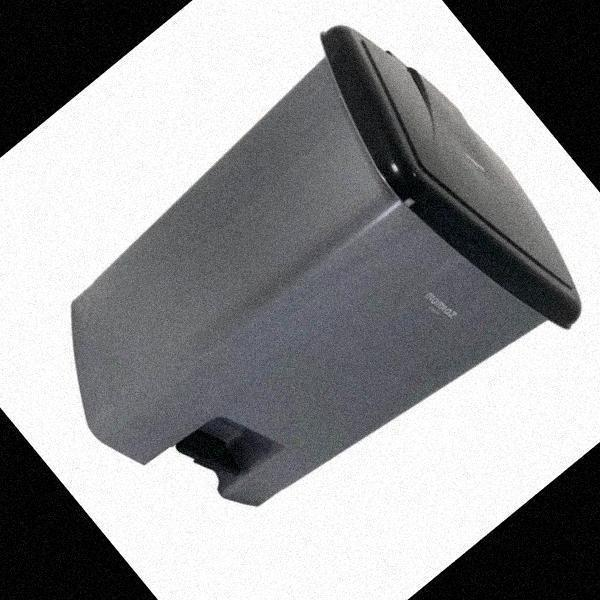Bote de Basura: (9, 0, 600, 583)
